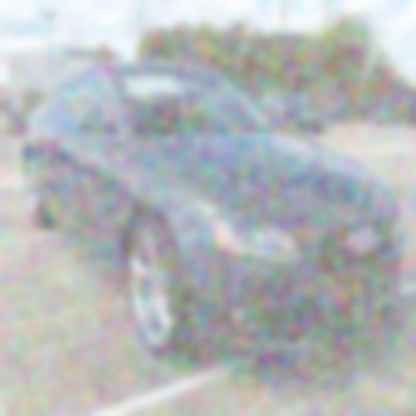Vehicle: (25, 61, 404, 361)
